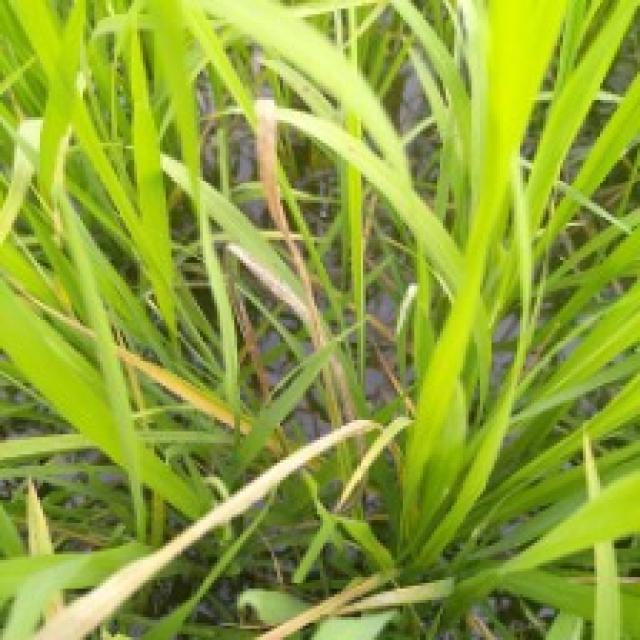Rice___Rice_Blast: (23, 409, 381, 637)
